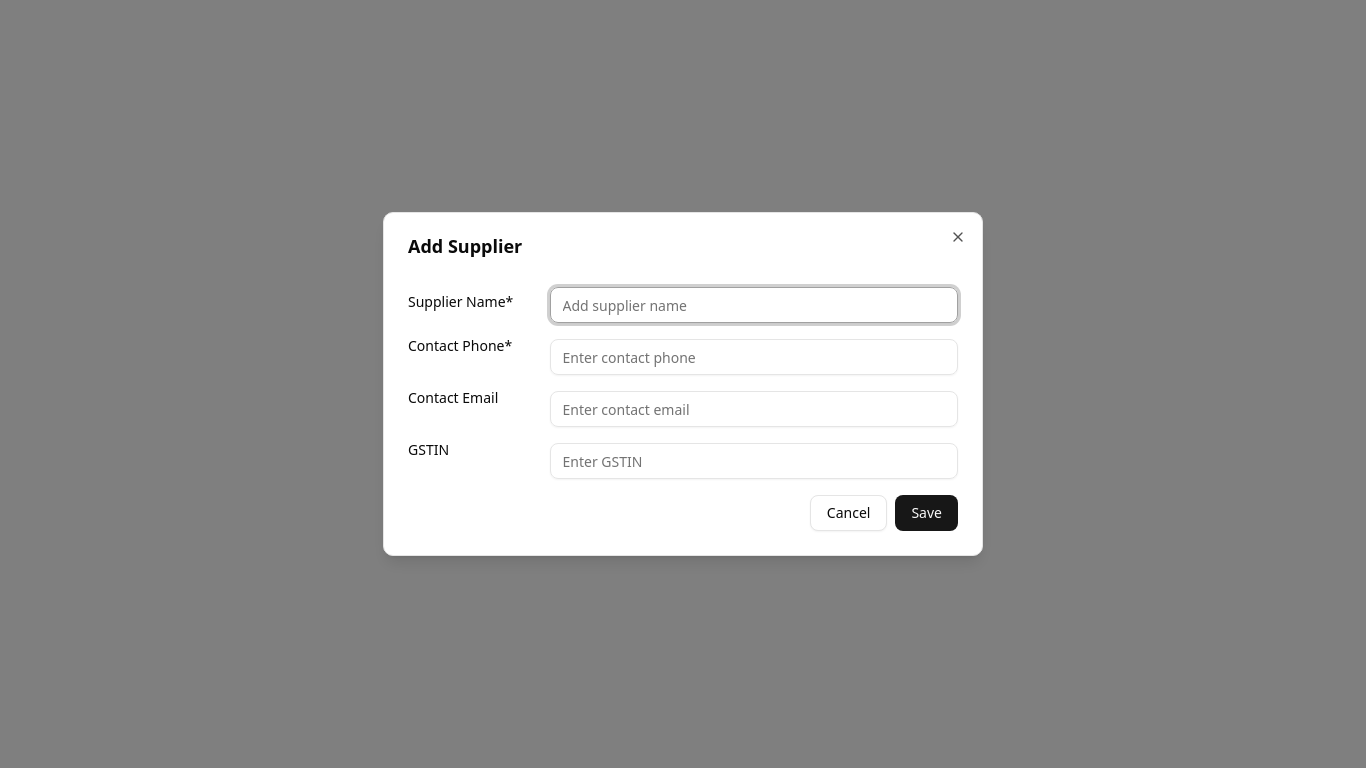
AddSupplierDialog › surfaces a field-level business error from the server action
Type "Acme Papers" into the field with placeholder "Add supplier name" at [754, 305], box [550,287,958,323]
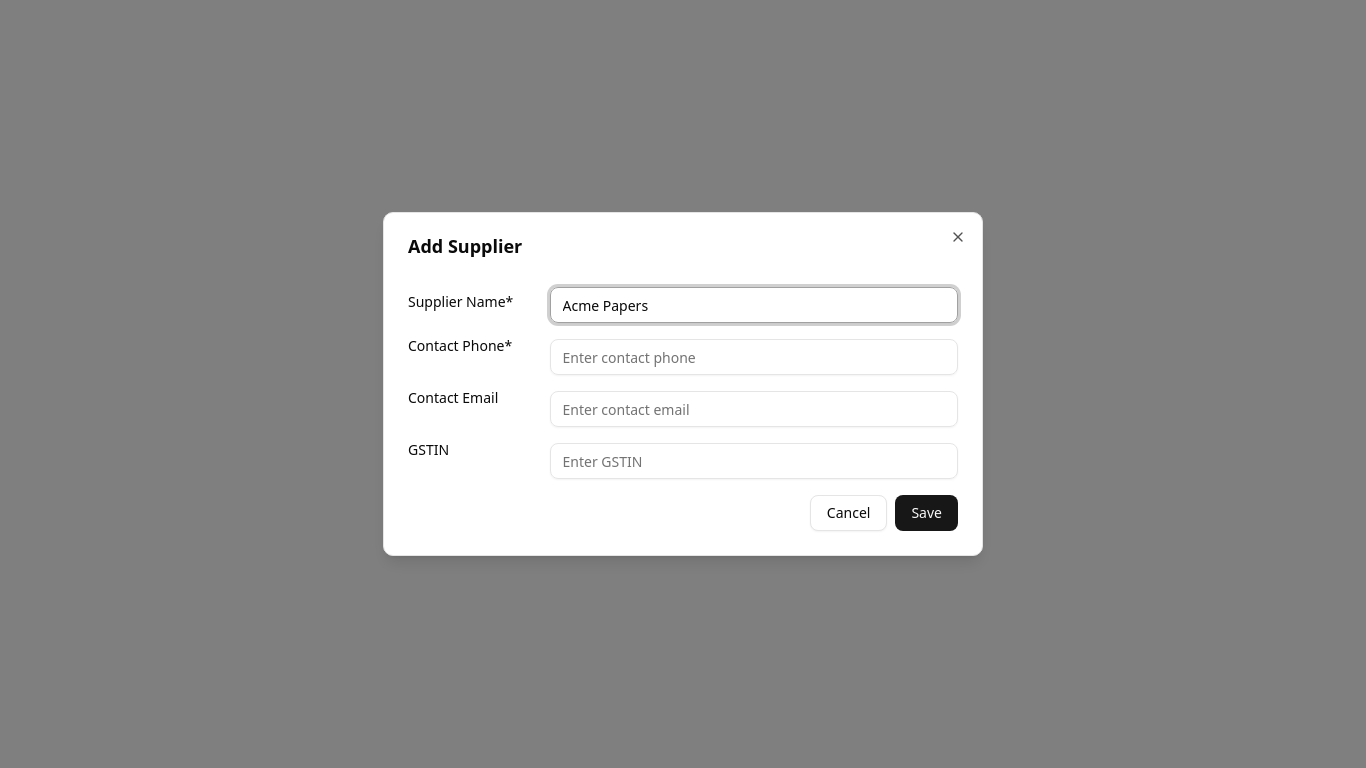
Type "9876543210" into the field with placeholder "Enter contact phone" at [754, 357], box [550,339,958,375]
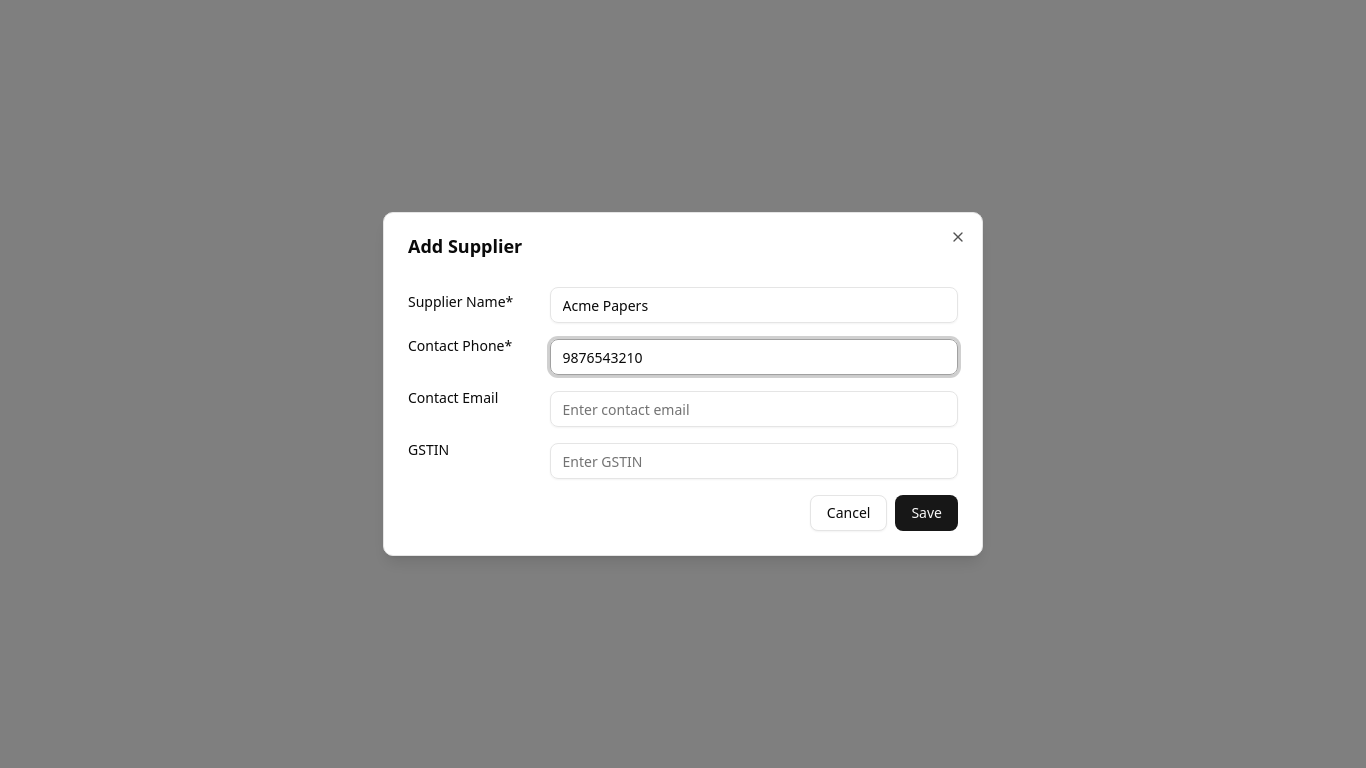
Type "orders@acme.test" into the field with placeholder "Enter contact email" at [754, 409], box [550,391,958,427]
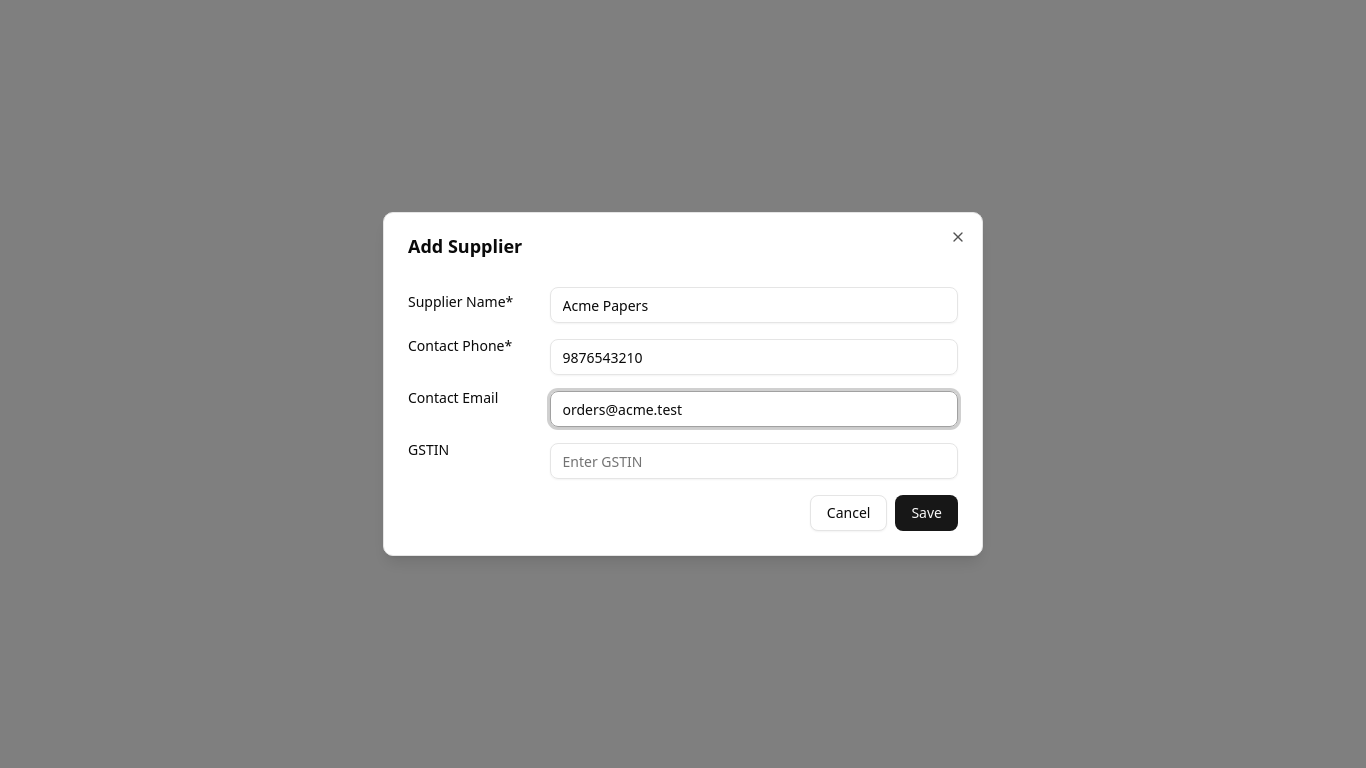
Type "22AAAAA0000A1Z5" into the field with placeholder "Enter GSTIN" at [754, 461], box [550,443,958,479]
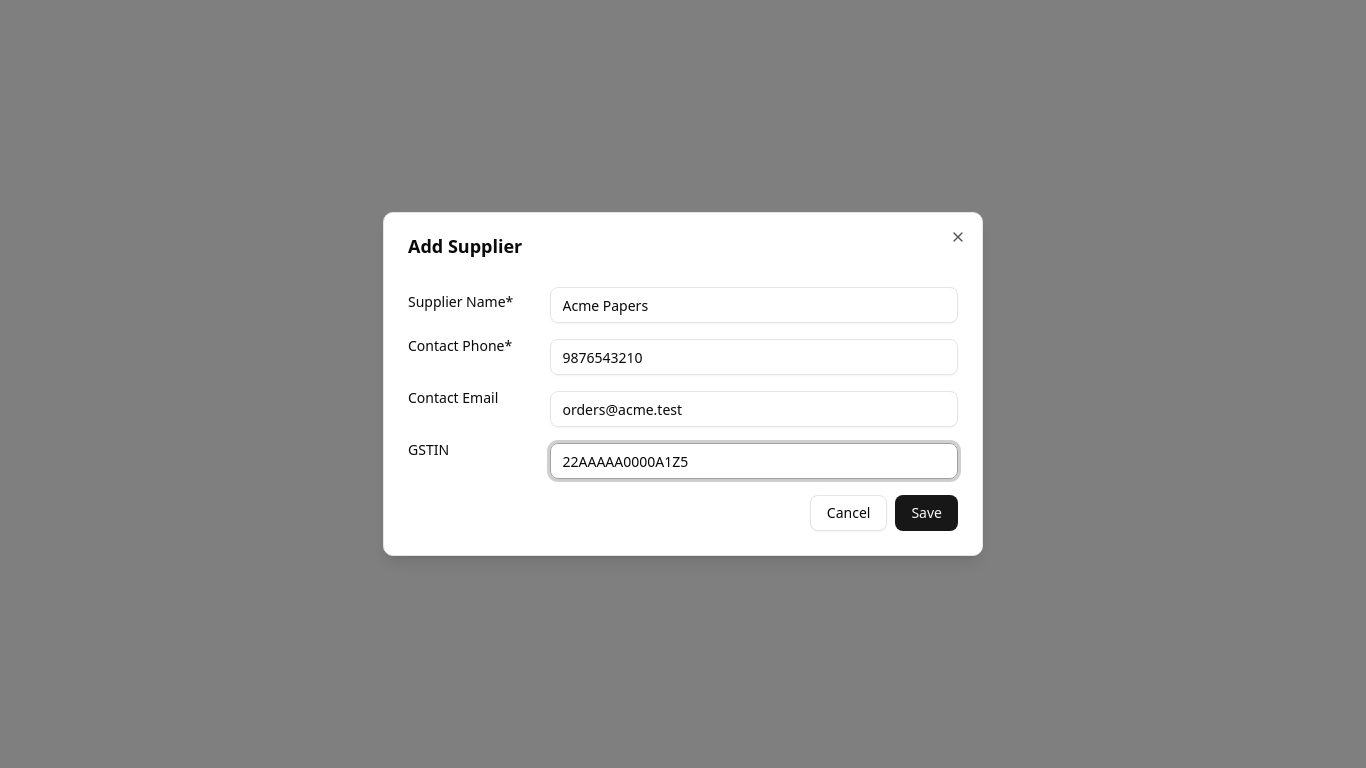
Click the button "Save" at [927, 513], box [895,495,958,531]
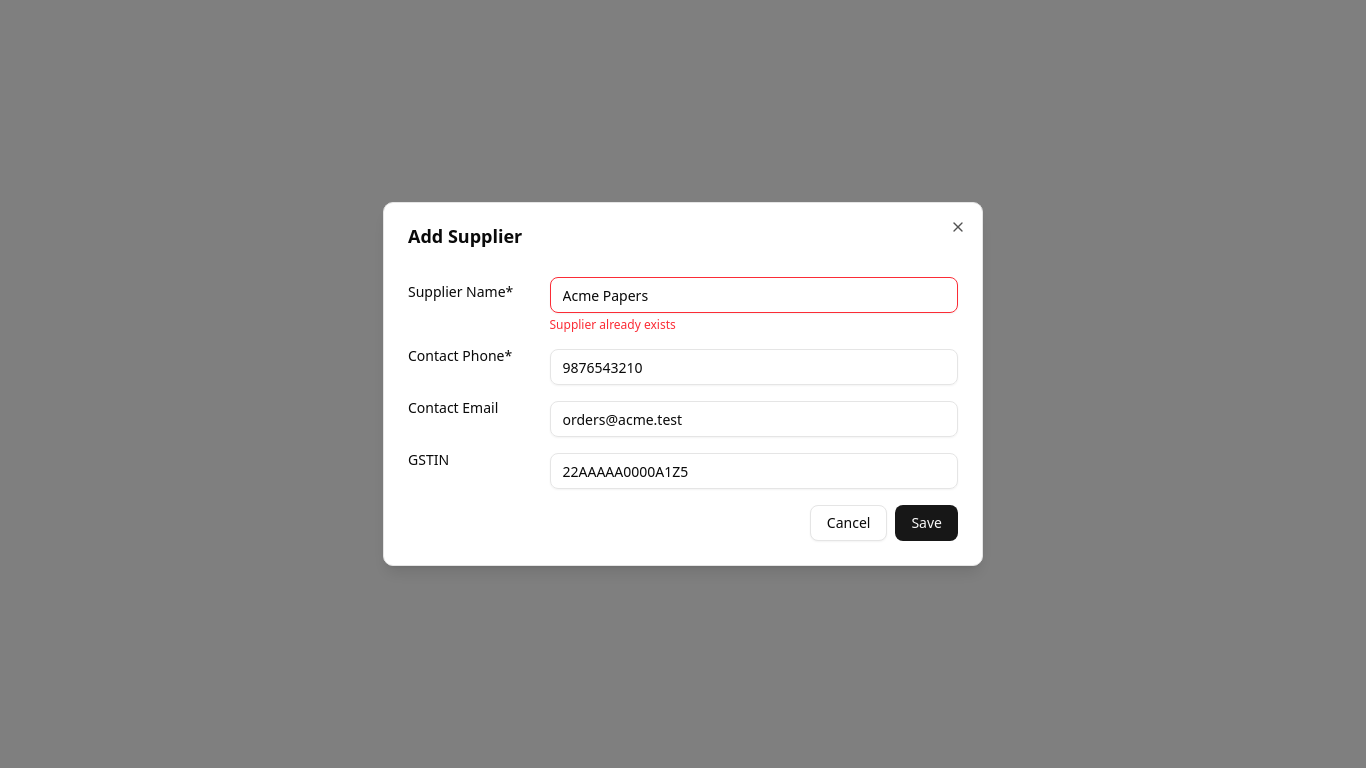
expect the text "Supplier already exists" is shown: met, box [550,316,676,333]
